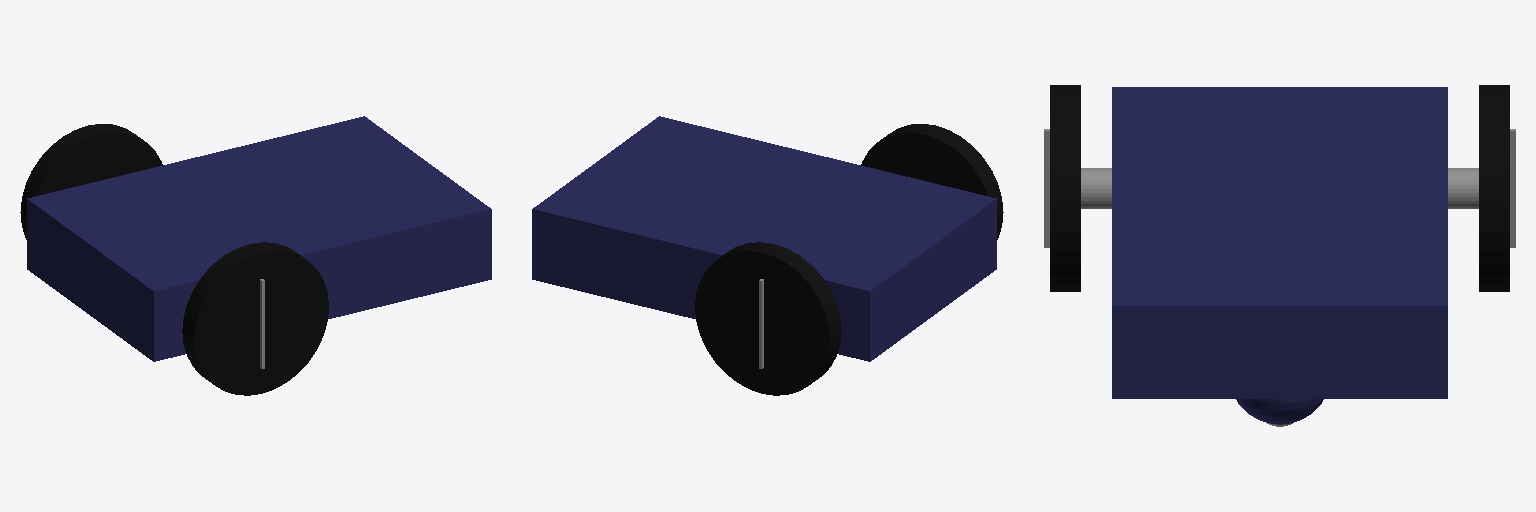
URDF robot description (robot):
<?xml version="1.0"?>

<robot name="robot">

    <!-- Link - chassis -->
    <link name="link_chassis">
        <inertial>
            <mass value="10" />
            <origin xyz="0 0 0.3" rpy="0 0 0" />
            <inertia ixx="1.5417" ixy="0" ixz="0" iyy="3.467" iyz="0" izz="4.742" />
        </inertial>

        <collision>
            <geometry>
                <box size="2 1.3 0.4" />
            </geometry>
        </collision>

        <visual>
            <geometry>
                <box size="2 1.3 0.4" />
            </geometry>
            <material name="DarkBlue">
                <color rgba="0.2 0.2 0.4 1" />
            </material>
        </visual>
    </link>

    <!-- Joint - caster wheel -->
    <joint name="joint_chassis_caster_wheel" type="fixed">
        <origin rpy="0 0 0" xyz="0.8 0 -0.15" />
        <child link="link_caster_wheel" />
        <parent link="link_chassis" />
        <joint_properties damping="1.0" friction="1.0" />
    </joint>

    <!-- Link - caster wheel -->
    <link name="link_caster_wheel">
        <inertial>
            <mass value="1" />
            <origin xyz="0 0 0" rpy="0 0 0" />
            <inertia ixx="0.002526666666667" ixy="0" ixz="0" iyy="0.002526666666667" iyz="0" izz="0.005"/>
        </inertial>

        <!-- Caster wheel support -->
        <collision>
            <origin rpy="0 0 0" xyz="0 0 -0.03" />
            <geometry>
                <sphere radius="0.2" />
            </geometry>
        </collision>
        <visual>
            <origin rpy="0 0 0" xyz="0 0 -0.03" />
            <geometry>
                <sphere radius="0.2" />
            </geometry>
            <material name="DarkBlue">
                <color rgba="0.2 0.2 0.4 1" />
            </material>
        </visual>

        <!-- Caster wheel -->
        <collision>
            <origin rpy="0 0 0" xyz="0 0 -0.15" />
            <geometry>
                <sphere radius="0.10" />
            </geometry>
        </collision>
        <visual>
            <origin rpy="0 0 0" xyz="0 0 -0.15" />
            <geometry>
                <sphere radius="0.10" />
            </geometry>
            <material name="Grey">
                <color rgba="0.6 0.6 0.6 1" />
            </material>
        </visual>
    </link>

    <!-- Joint - chassis / left wheel -->
    <joint name="joint_chassis_left_wheel" type="continuous">
        <origin rpy="0 0 0" xyz="-0.5 0.65 0" />
        <child link="link_left_wheel" />
        <parent link="link_chassis" />
        <axis rpy="0 0 0" xyz="0 1 0" />
        <limit effort="10000" velocity="1000" />
        <joint_properties damping="1.0" friction="1.0" />
    </joint>

    <!-- Link - left wheel -->
    <link name="link_left_wheel">
        <inertial>
            <mass value="1" />
            <origin xyz="0 0 0" rpy="0 0 0" />
            <inertia ixx="0.002526666666667" ixy="0" ixz="0" iyy="0.002526666666667" iyz="0" izz="0.005"/>
        </inertial>

        <!-- Tires -->
        <collision>
            <origin rpy="1.5707 0 0" xyz="0 0.18 0" />
            <geometry>
                <cylinder length="0.12" radius="0.4"/>
            </geometry>
        </collision>
        <visual>
            <origin rpy="1.5707 0 0" xyz="0 0.18 0" />
            <geometry>
                <cylinder length="0.12" radius="0.4"/>
            </geometry>
            <material name="Black">
                <color rgba="0.1 0.1 0.1 1" />
            </material>
        </visual>

        <!-- Axle -->
        <collision>
            <origin rpy="1.5707 0 0" xyz="0 0.06 0" />
            <geometry>
                <cylinder length="0.12" radius="0.08"/>
            </geometry>
        </collision>
        <visual>
            <origin rpy="1.5707 0 0" xyz="0 0.06 0" />
            <geometry>
                <cylinder length="0.12" radius="0.08"/>
            </geometry>
            <material name="Grey">
                <color rgba="0.6 0.6 0.6 1" />
            </material>
        </visual>

        <!-- Hubcap -->
        <visual>
            <origin rpy="1.5707 0 0" xyz="0 0.25 0" />
            <geometry>
                <box size="0.02 0.5 0.02" />
            </geometry>
            <material name="Grey">
                <color rgba="0.6 0.6 0.6 1" />
            </material>
        </visual>
    </link>

    <!-- Joint - chassis / right wheel -->
    <joint name="joint_chassis_right_wheel" type="continuous">
        <origin rpy="0 0 0" xyz="-0.5 -0.65 0" />
        <child link="link_right_wheel" />
        <parent link="link_chassis" />
        <axis rpy="0 0 0" xyz="0 1 0" />
        <limit effort="10000" velocity="1000" />
        <joint_properties damping="1.0" friction="1.0" />
    </joint>

    <!-- Link - right wheel -->
    <link name="link_right_wheel">
        <inertial>
            <mass value="1" />
            <origin xyz="0 0 0" rpy="0 0 0" />
            <inertia ixx="0.002526666666667" ixy="0" ixz="0" iyy="0.002526666666667" iyz="0" izz="0.005"/>
        </inertial>

        <!-- Tires -->
        <collision>
            <origin rpy="1.5707 0 0" xyz="0 -0.18 0" />
            <geometry>
                <cylinder length="0.12" radius="0.4"/>
            </geometry>
        </collision>
        <visual>
            <origin rpy="1.5707 0 0" xyz="0 -0.18 0" />
            <geometry>
                <cylinder length="0.12" radius="0.4"/>
            </geometry>
            <material name="Black">
                <color rgba="0.1 0.1 0.1 1" />
            </material>
        </visual>

        <!-- Axle -->
        <collision>
            <origin rpy="1.5707 0 0" xyz="0 -0.06 0" />
            <geometry>
                <cylinder length="0.12" radius="0.08"/>
            </geometry>
        </collision>
        <visual>
            <origin rpy="1.5707 0 0" xyz="0 -0.06 0" />
            <geometry>
                <cylinder length="0.12" radius="0.08"/>
            </geometry>
            <material name="Grey">
                <color rgba="0.6 0.6 0.6 1" />
            </material>
        </visual>

        <!-- Hubcap -->
        <visual>
            <origin rpy="1.5707 0 0" xyz="0 -0.25 0" />
            <geometry>
                <box size="0.02 0.5 0.02" />
            </geometry>
            <material name="Grey">
                <color rgba="0.6 0.6 0.6 1" />
            </material>
        </visual>
    </link>

</robot>

--- What the picture shows (computed from the rendered views, not written in the file) ---
Views: 3 orthographic renders of the robot side by side, from view 1: azimuth 30°, elevation 25°; view 2: azimuth 150°, elevation 25°; view 3: azimuth 270°, elevation 25°.
Robot: robot — 4 links, 3 joints (2 continuous, 1 fixed); root link link_chassis; default pose: every joint at zero.
Links seen in each view (by area): view 1: link_chassis, link_right_wheel, link_left_wheel; view 2: link_chassis, link_left_wheel, link_right_wheel; view 3: link_chassis, link_left_wheel, link_right_wheel, link_caster_wheel.
Boxes of the visible links, box(x1,y1,x2,y2) form: link_chassis: box(27, 116, 491, 361); link_right_wheel: box(182, 242, 328, 395); link_left_wheel: box(20, 124, 162, 239); link_chassis: box(532, 116, 996, 361); link_left_wheel: box(695, 242, 841, 395); link_right_wheel: box(861, 124, 1003, 239); link_chassis: box(1112, 87, 1447, 398); link_left_wheel: box(1448, 85, 1515, 291); link_right_wheel: box(1044, 85, 1111, 291); link_caster_wheel: box(1236, 399, 1323, 426).
Size in the robot's own frame: 2 by 1.82 by 0.8 metres.
Geometry: primitives only (box / cylinder / sphere), no mesh files.